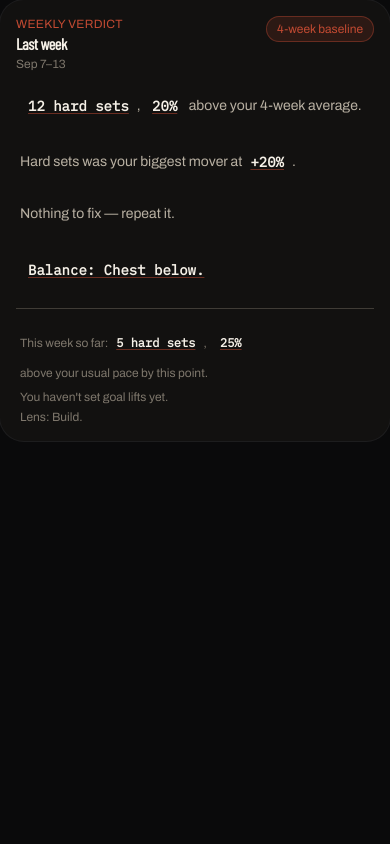
it: WeeklyVerdictCard muscle balance › opens muscle balance evidence including research-default disclosure
The width and height of the screenshot is (390, 844).
Click the button "Balance: Chest below.".
click(116, 270)  # box 22,248 -> 210,292
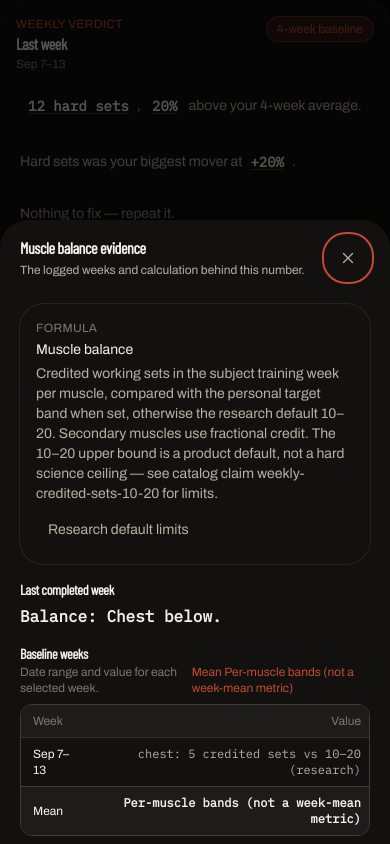
Check: the dialog "Muscle balance evidence" is shown
Check: the button "Research default limits" is shown, box 36,512 -> 201,548
